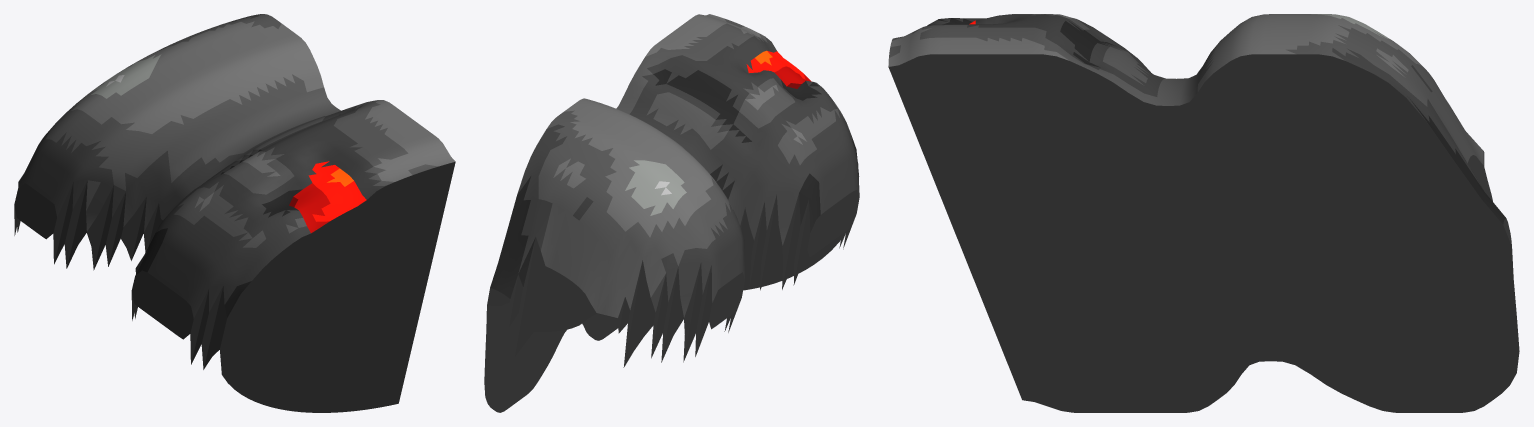
The model's file is grey_capsule_tl.glb.
3 renders of one model, left to right at view 1: azimuth 30°, elevation 25°; view 2: azimuth 150°, elevation 25°; view 3: azimuth 270°, elevation 25°, orthographic. The views are drawn at different scales.
Visible parts, largest first — view 1: grey_capsule_tl; view 2: grey_capsule_tl; view 3: grey_capsule_tl.
Part boxes in pixels (<box>): grey_capsule_tl: <box>14,14,455,412</box>; grey_capsule_tl: <box>484,14,859,412</box>; grey_capsule_tl: <box>888,14,1519,412</box>.
Bounding box in the file's own units: 13 × 17.22 × 27.47.
